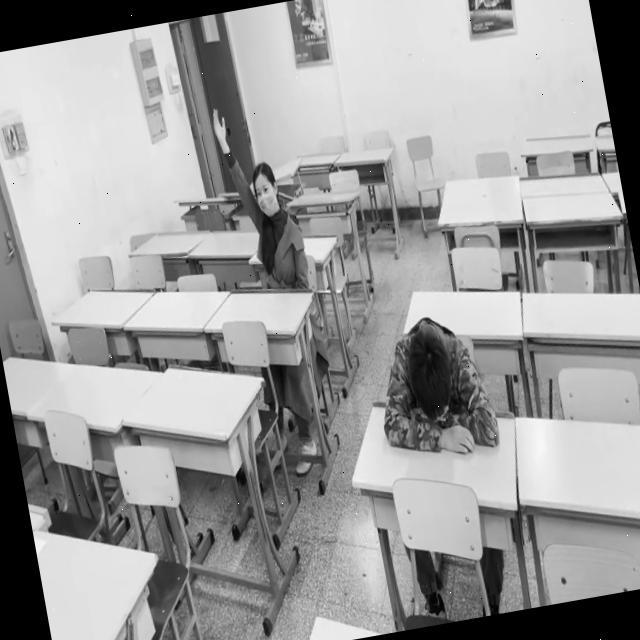sleep: (367, 310, 500, 467)
study: (209, 94, 312, 297)
